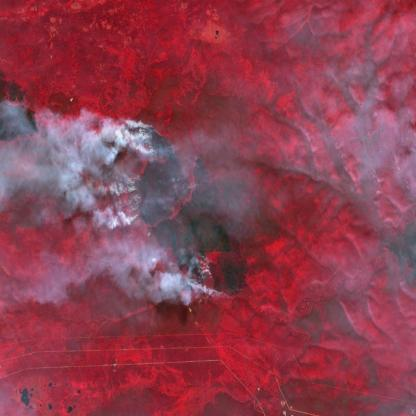fire: (127, 121, 214, 229)
